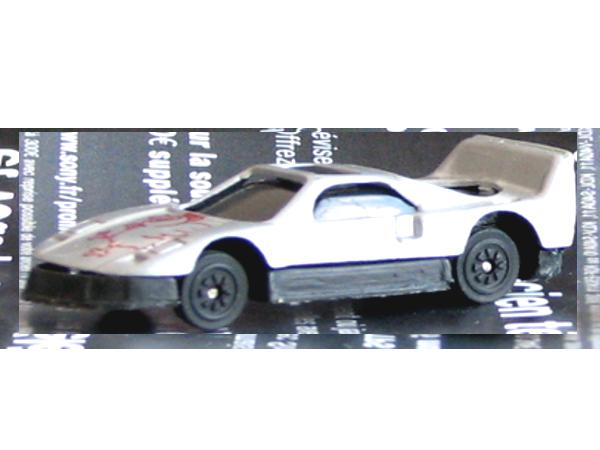toy-car: (19, 133, 577, 335)
